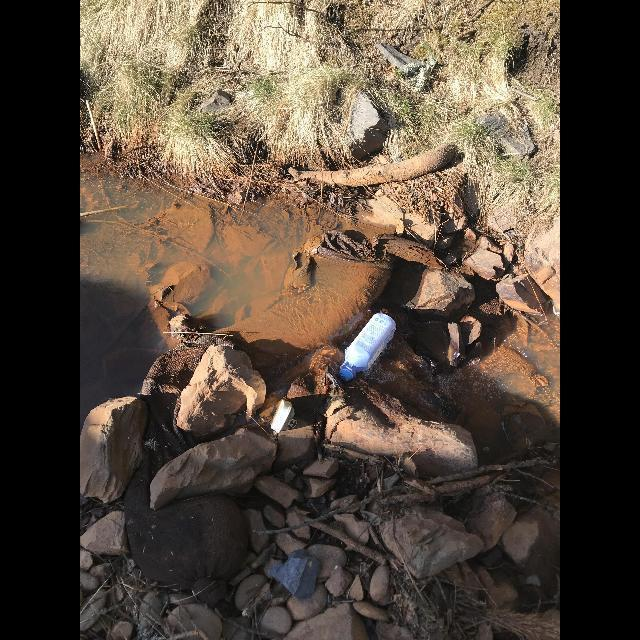Plastic: (339, 314, 396, 382), (340, 370, 352, 382)
